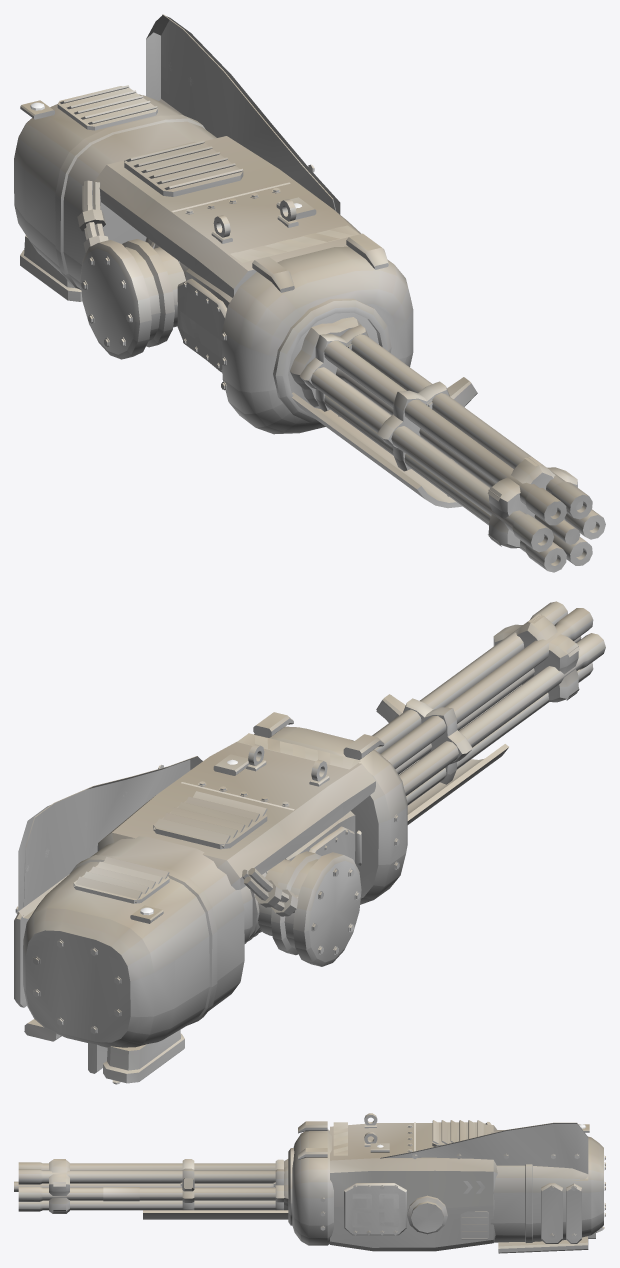
File: minigun-m-left.glb
The picture shows the model from 3 angles, top to bottom: view 1: azimuth 30°, elevation 25°; view 2: azimuth 150°, elevation 25°; view 3: azimuth 270°, elevation 25°; orthographic projection. The views are drawn at different scales.
Visible parts, largest first — view 1: Body, Spin; view 2: Body, Spin; view 3: Body, Spin.
Part boxes in pixels (<box>): Body: <box>14,14,462,508</box>; Spin: <box>290,317,605,572</box>; Body: <box>14,712,508,1084</box>; Spin: <box>372,601,605,805</box>; Body: <box>143,1113,605,1253</box>; Spin: <box>14,1159,288,1213</box>.
Size of the model in its own units: 0.8928 by 0.96 by 3.76.
